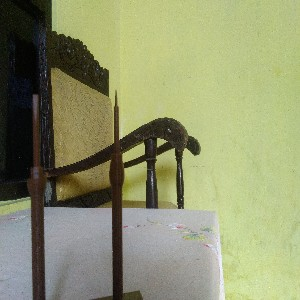obeng: (26, 93, 48, 300)
solder: (109, 89, 125, 300)
